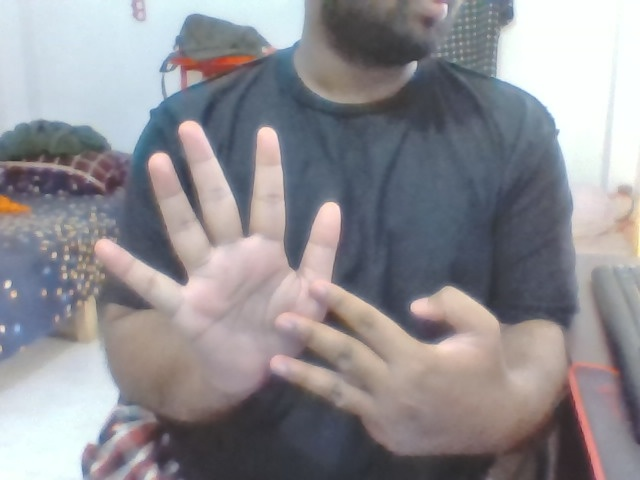M: (85, 113, 517, 468)
